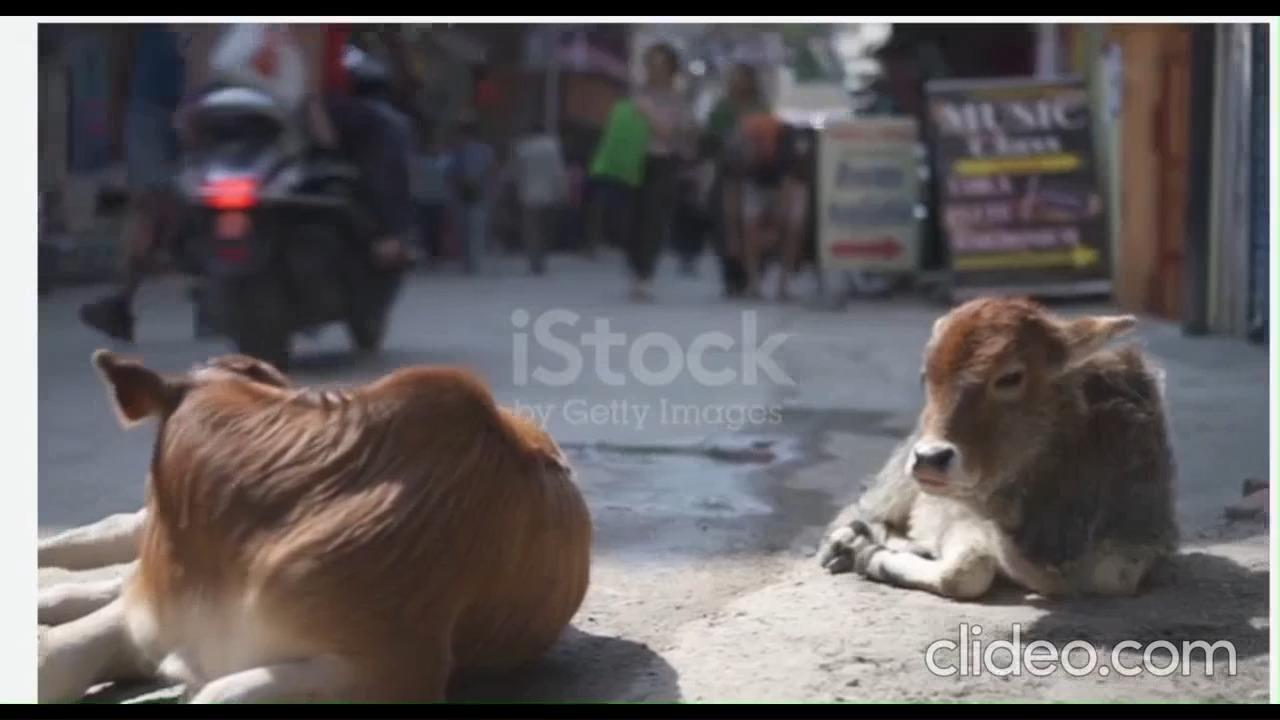Cow: (34, 328, 584, 696), (813, 289, 1184, 603)
